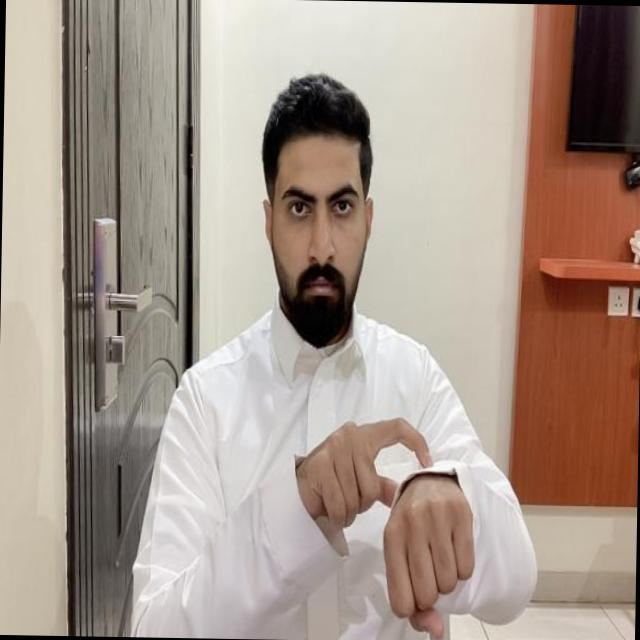appointment: (292, 411, 480, 640)
